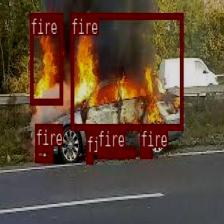fire: (70, 13, 182, 129), (30, 12, 62, 104), (96, 147, 134, 157), (34, 146, 52, 161), (140, 146, 151, 157), (85, 152, 93, 162)
